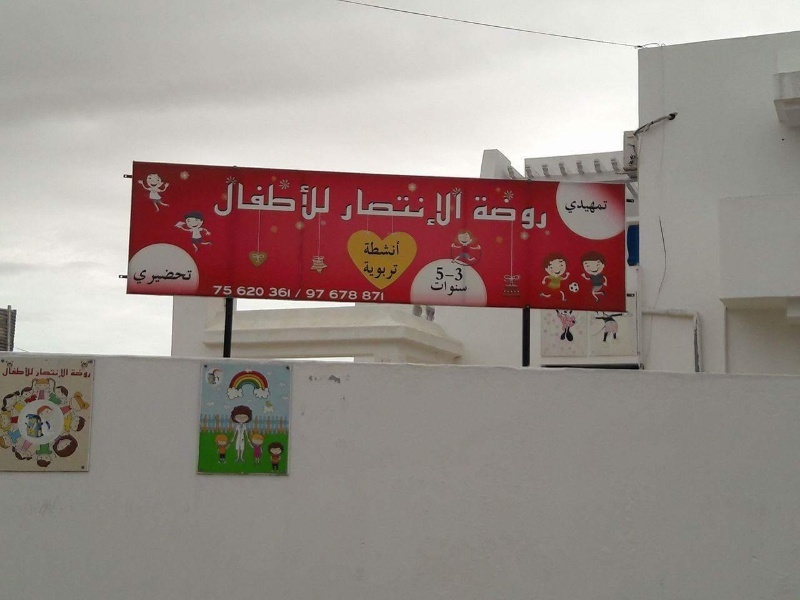text: (353, 185, 368, 230), (369, 185, 384, 230), (385, 185, 400, 230), (401, 185, 416, 230), (417, 185, 432, 230), (433, 185, 448, 230), (449, 185, 464, 230), (225, 180, 240, 221), (241, 180, 256, 221), (257, 180, 272, 221), (273, 180, 288, 221), (289, 180, 304, 221), (305, 180, 320, 221), (481, 194, 496, 232), (497, 194, 512, 232), (513, 194, 528, 232), (529, 194, 544, 232), (341, 185, 352, 230), (321, 180, 331, 221), (472, 194, 480, 232), (369, 261, 384, 281), (145, 267, 160, 286), (161, 267, 176, 286), (177, 267, 192, 286), (385, 261, 399, 281), (369, 240, 384, 257), (385, 240, 400, 257), (218, 180, 224, 221), (577, 199, 592, 215), (593, 199, 608, 215), (433, 281, 448, 297), (449, 281, 464, 297), (449, 267, 464, 281), (305, 287, 320, 300), (273, 286, 288, 299), (134, 267, 144, 286), (435, 267, 448, 281), (337, 289, 352, 301), (17, 365, 32, 377), (369, 291, 385, 302), (565, 199, 576, 215), (241, 286, 256, 297), (49, 367, 64, 378), (3, 365, 16, 377), (34, 367, 48, 378), (212, 285, 224, 297), (362, 261, 368, 281), (294, 287, 304, 299), (545, 194, 548, 232), (81, 369, 92, 379), (71, 369, 80, 379), (257, 286, 265, 297), (329, 289, 336, 301), (225, 285, 232, 297), (364, 240, 368, 257), (362, 291, 368, 302), (321, 287, 326, 300), (465, 281, 469, 297), (353, 289, 358, 301), (268, 286, 272, 299), (65, 367, 69, 378), (289, 286, 292, 299), (237, 286, 240, 297), (401, 240, 402, 257), (431, 281, 432, 297), (33, 365, 34, 377)
